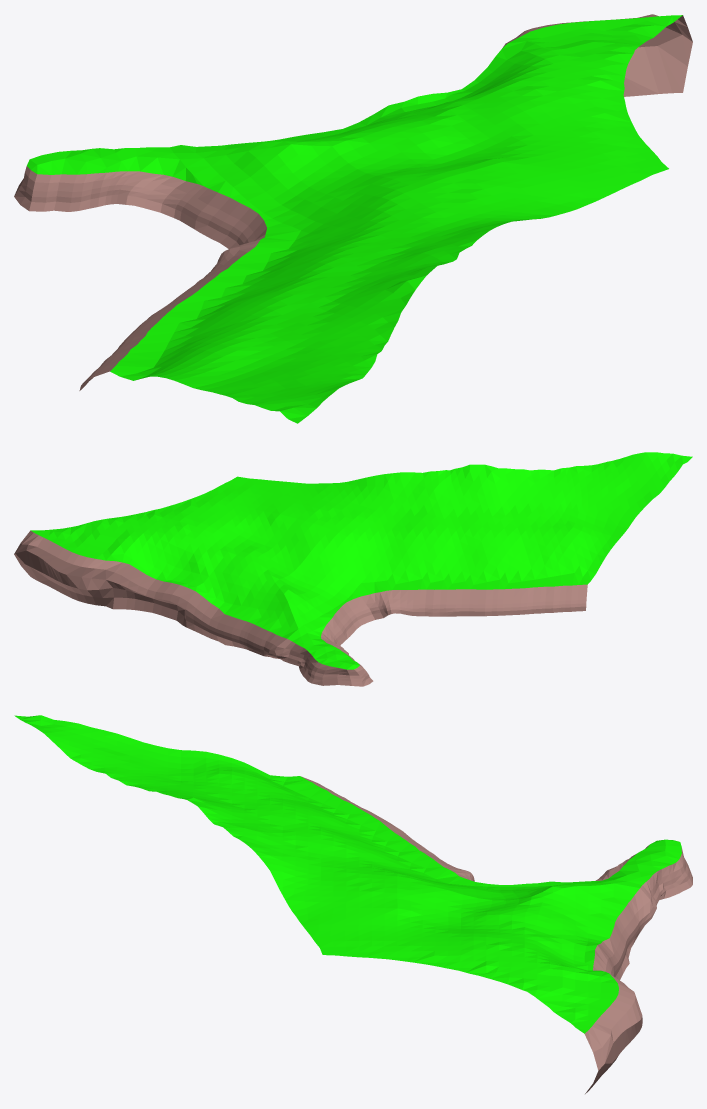
Rendered from col_carisle_mid_landmass_02.fbx.
3 renders of one model, top to bottom at view 1: azimuth 30°, elevation 25°; view 2: azimuth 150°, elevation 25°; view 3: azimuth 270°, elevation 25°, orthographic. The views are drawn at different scales.
Parts seen in each view (by area): view 1: col_carisle_mid_landmass_02; view 2: col_carisle_mid_landmass_02; view 3: col_carisle_mid_landmass_02.
Part boxes in pixels (x1,y1,x2,y2): col_carisle_mid_landmass_02: (14,14,692,423); col_carisle_mid_landmass_02: (14,452,692,686); col_carisle_mid_landmass_02: (14,715,692,1093).
Bounding box in the file's own units: 114 × 109 × 18.65.
